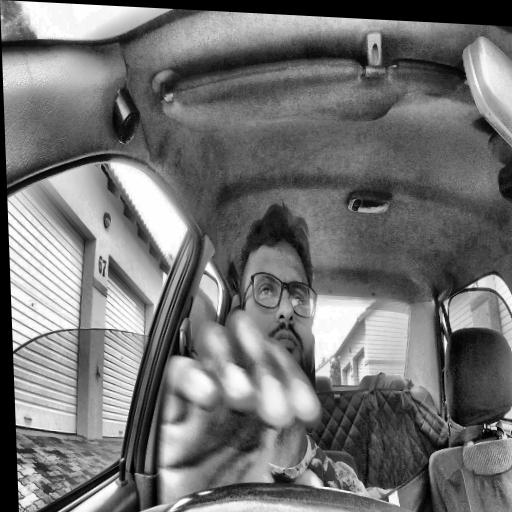awake: (234, 200, 322, 396)
